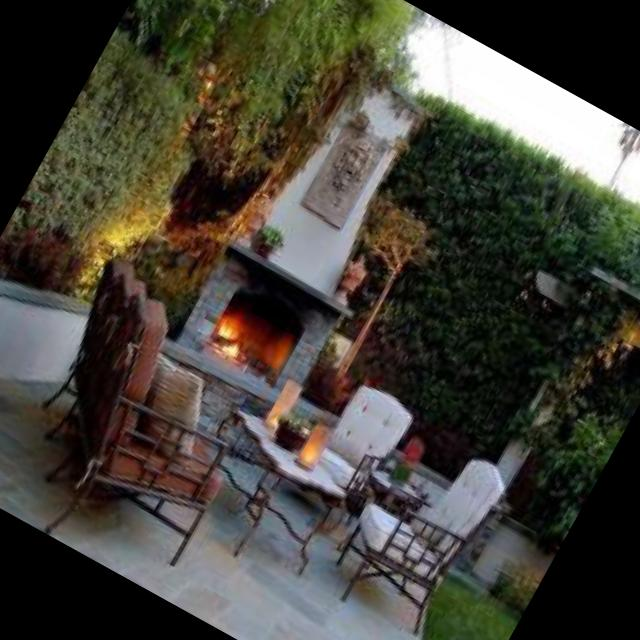fire: (200, 292, 264, 366)
